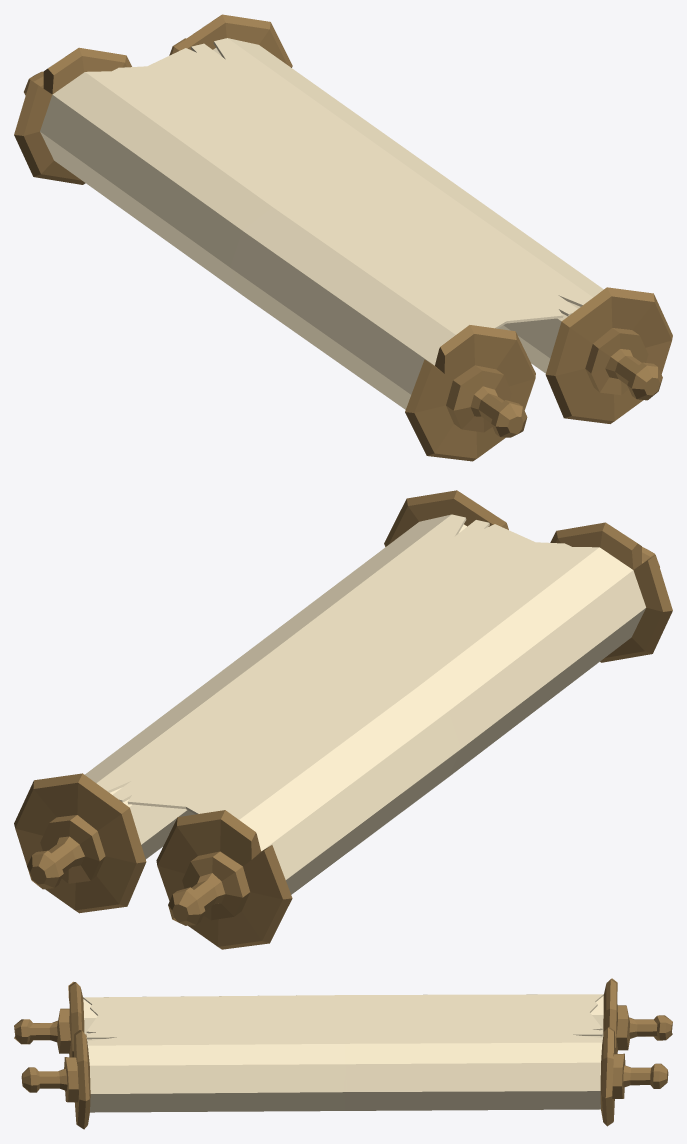
Rendered from DualScroll.fbx.
The picture shows the model from 3 angles, top to bottom: view 1: azimuth 30°, elevation 25°; view 2: azimuth 150°, elevation 25°; view 3: azimuth 270°, elevation 25°; orthographic projection. The views are drawn at different scales.
Parts seen in each view (by area): view 1: Double scroll; view 2: Double scroll; view 3: Double scroll.
Part boxes in pixels (left/top/right/bottom): Double scroll: left=14, top=14, right=672, bottom=461; Double scroll: left=14, top=490, right=672, bottom=949; Double scroll: left=14, top=978, right=672, bottom=1129.
Size of the model in its own units: 34.87 by 16.15 by 99.85.
